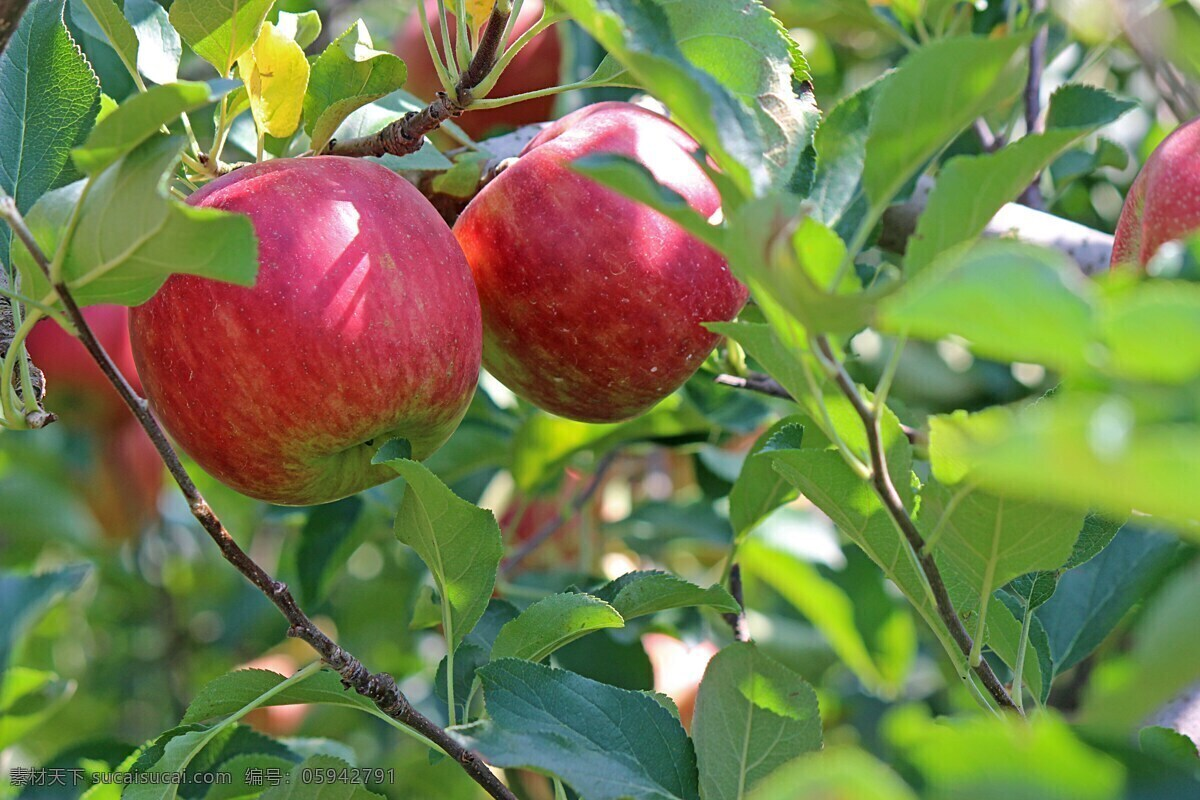Apple: (129, 150, 480, 505), (452, 96, 758, 425), (376, 0, 568, 131), (1103, 93, 1197, 284), (625, 611, 746, 746), (16, 286, 138, 416), (57, 421, 163, 545), (497, 472, 623, 575), (217, 649, 314, 732)
